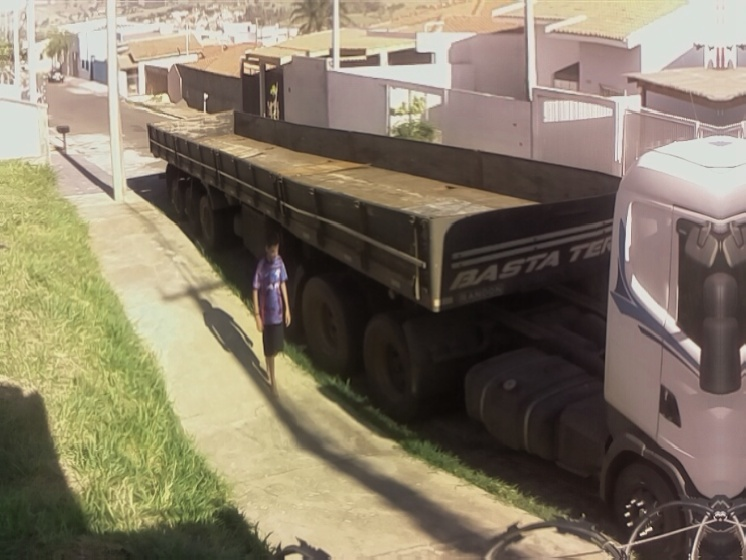person: (250, 233, 300, 401)
